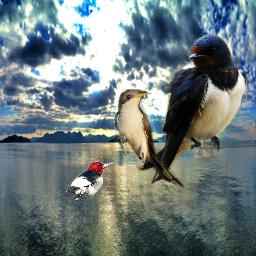Cuckoo: (114, 89, 185, 192)
Swallow: (138, 33, 248, 187)
Woodpecker: (66, 161, 114, 201)
